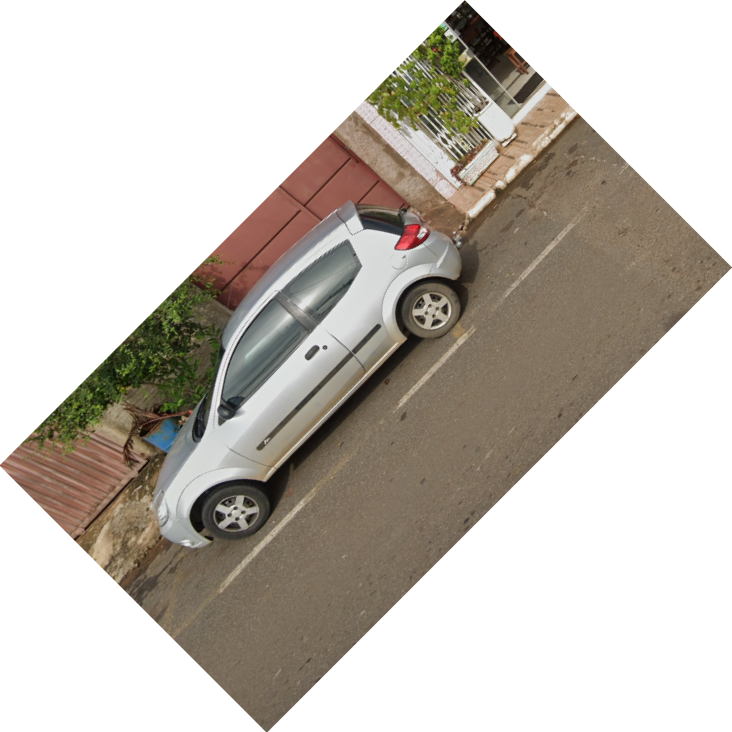car: (149, 201, 474, 557)
